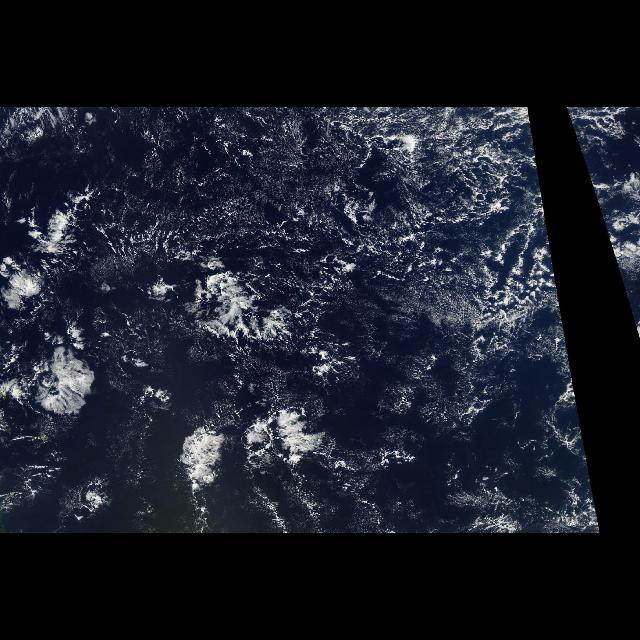Flower: (13, 342, 353, 490), (0, 175, 114, 328)
Gravel: (132, 108, 566, 324), (564, 107, 606, 230)
Sugar: (240, 134, 448, 320)
